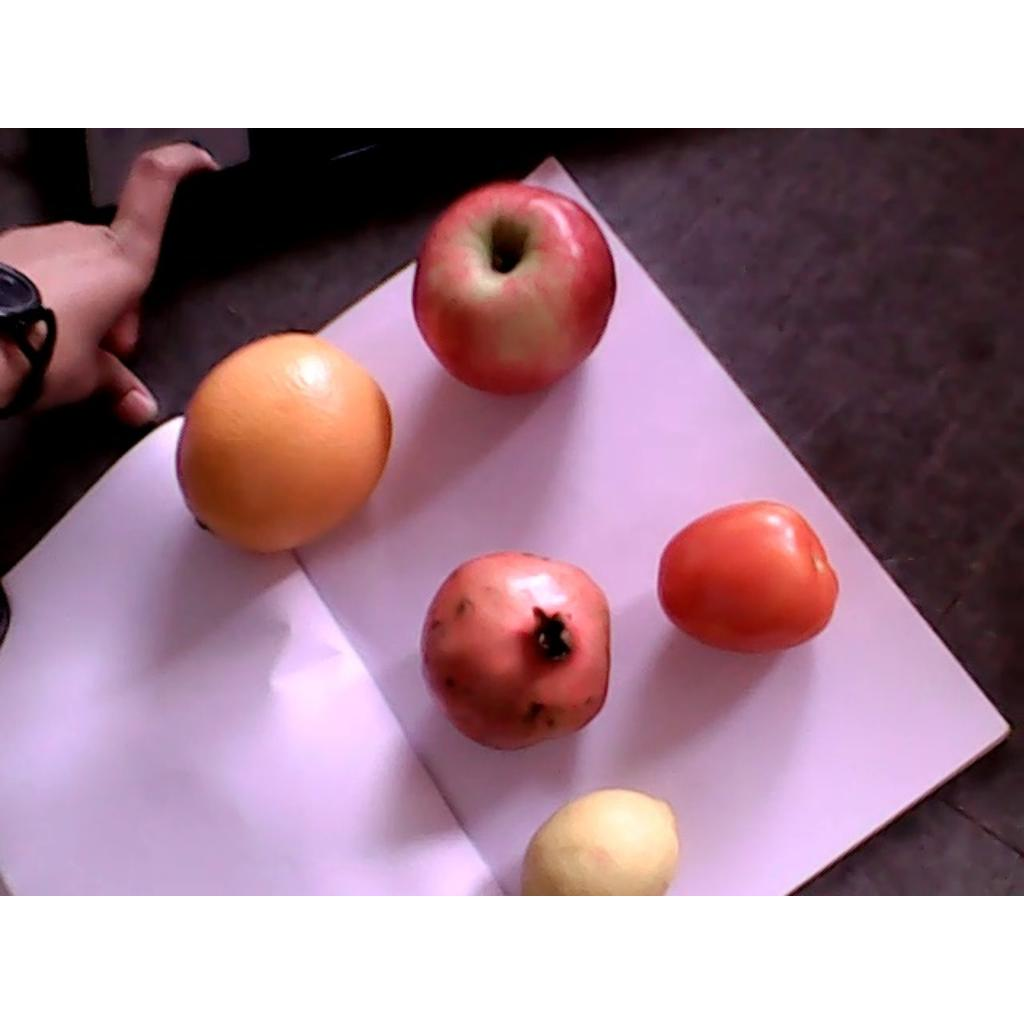apple: (413, 183, 616, 399)
lemon: (520, 788, 680, 894)
orange: (177, 332, 392, 552)
pomegranate: (420, 552, 611, 751)
tomato: (657, 500, 840, 653)
